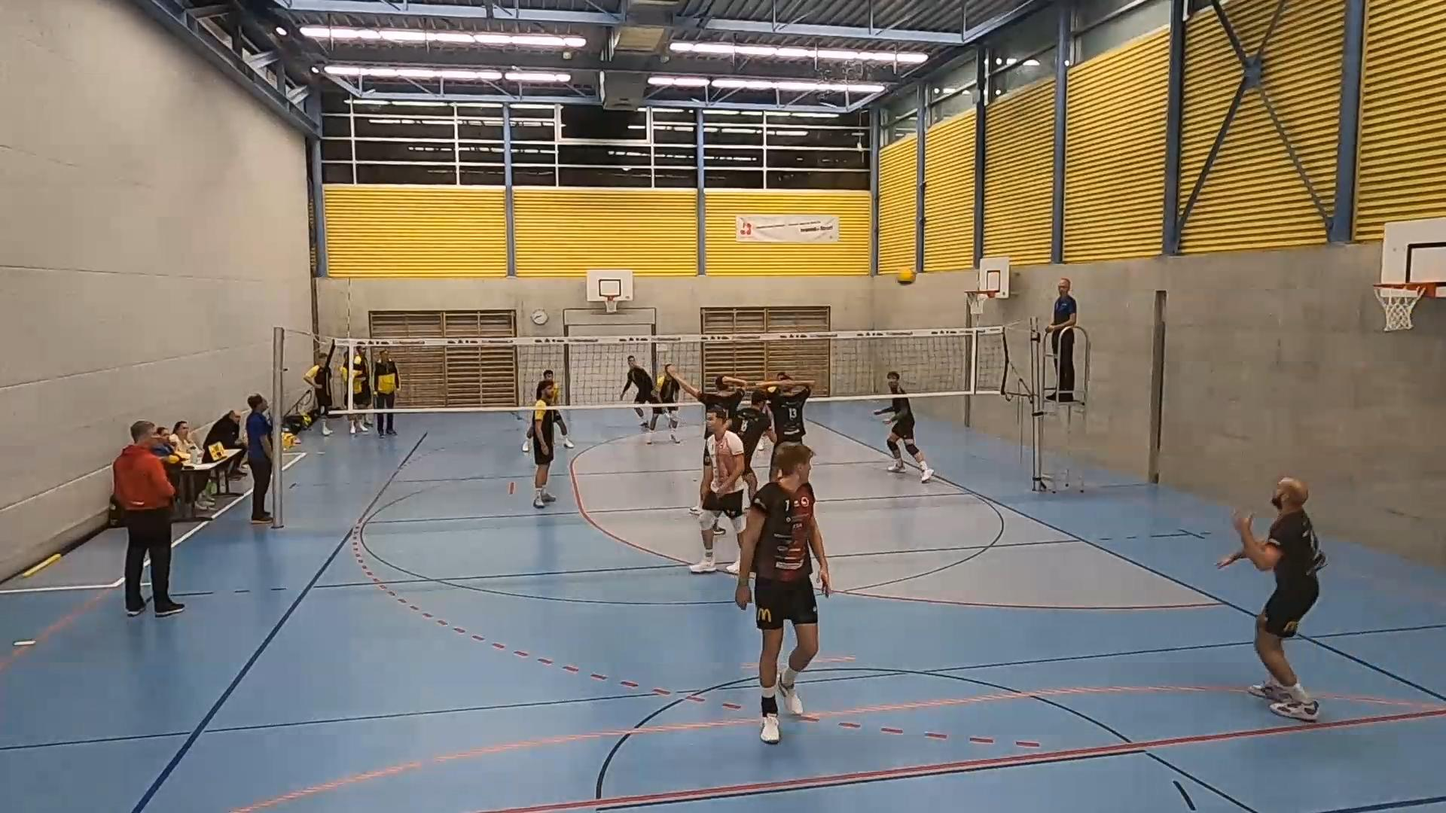Player: (735, 443, 831, 743), (1218, 477, 1325, 721), (689, 406, 743, 573), (873, 371, 934, 483), (757, 372, 813, 479), (732, 390, 776, 498), (665, 365, 746, 416), (532, 380, 557, 508), (620, 355, 657, 431), (645, 370, 680, 443), (555, 411, 574, 447)
ball: (894, 269, 916, 284)
